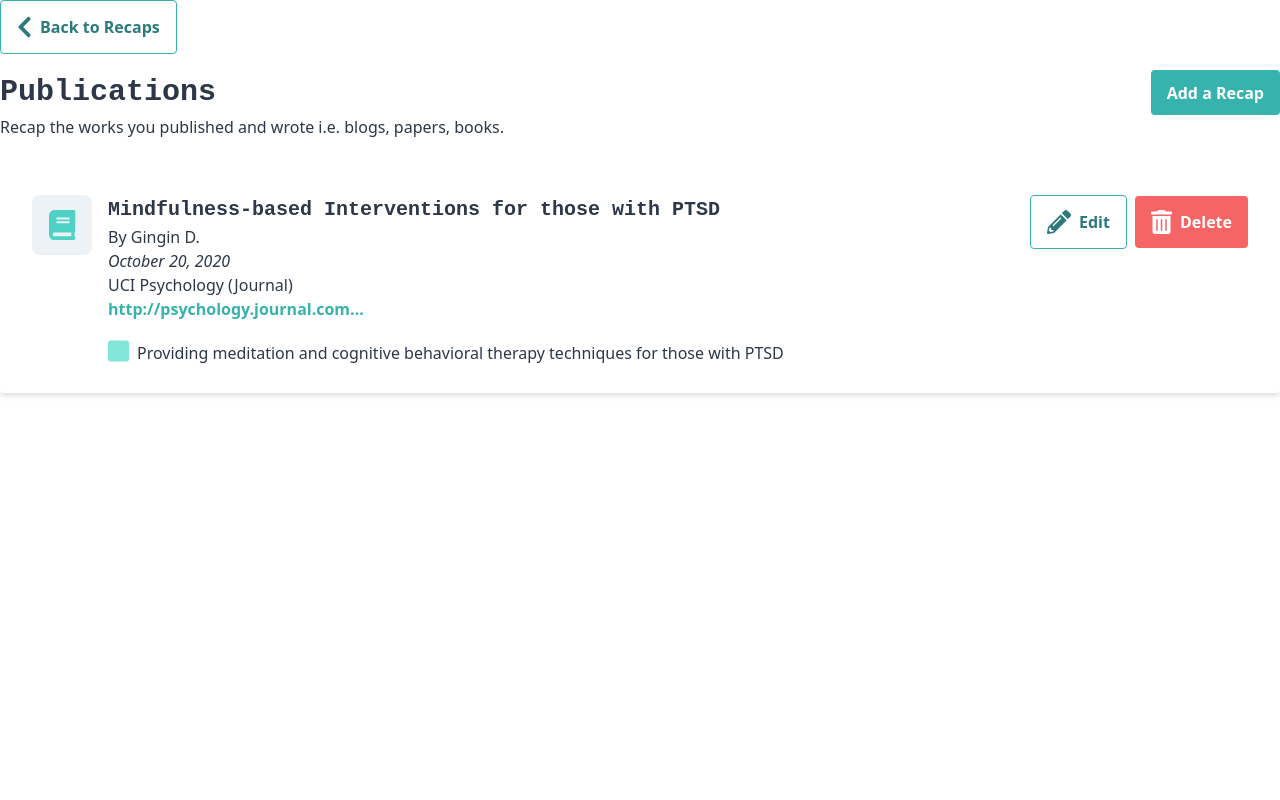
<PublicationsLayout /> › should show the error alert after failing to delete a recap
Click the button "Delete": {"x": 1192, "y": 222} top-left (1135, 196), bottom-right (1248, 248)
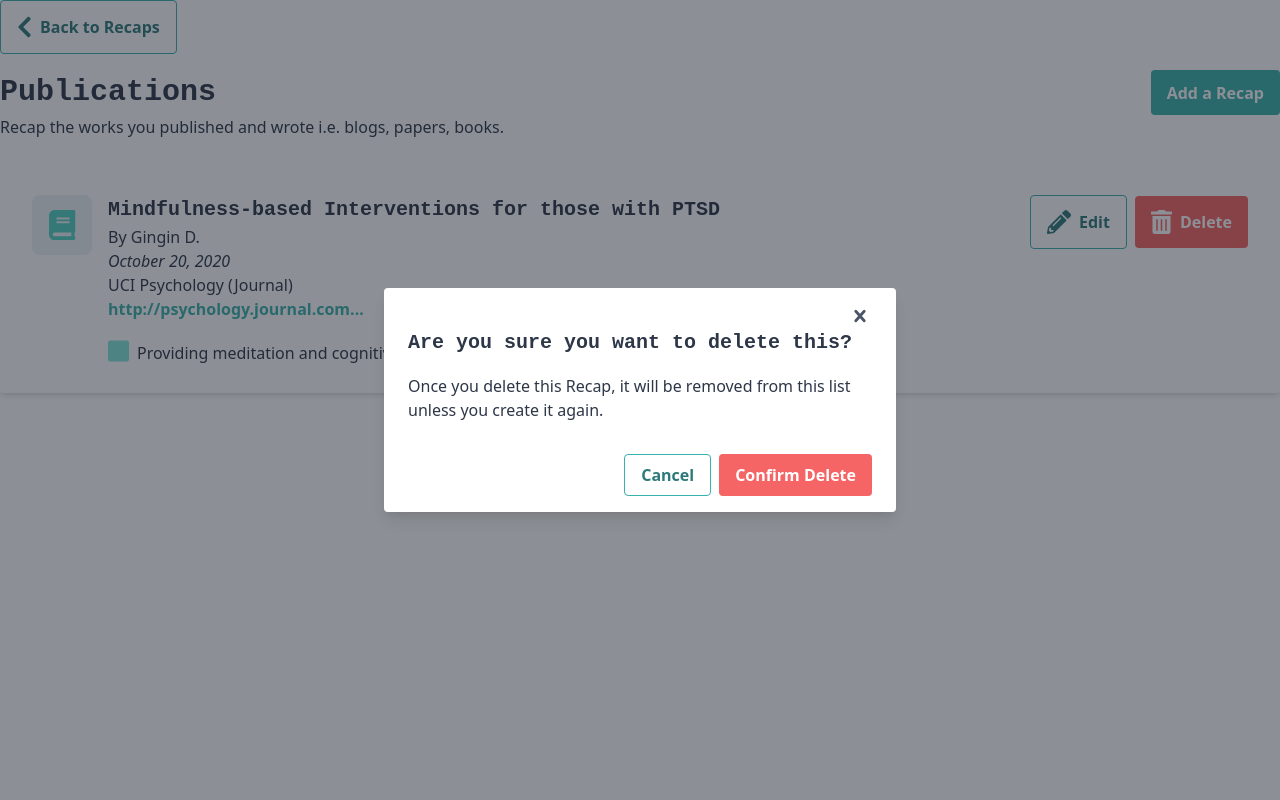
Check: the heading "Are you sure you want to delete this?" is shown, box top-left (408, 328), bottom-right (872, 358)
Click the button "Confirm Delete": {"x": 796, "y": 475} top-left (719, 454), bottom-right (872, 496)
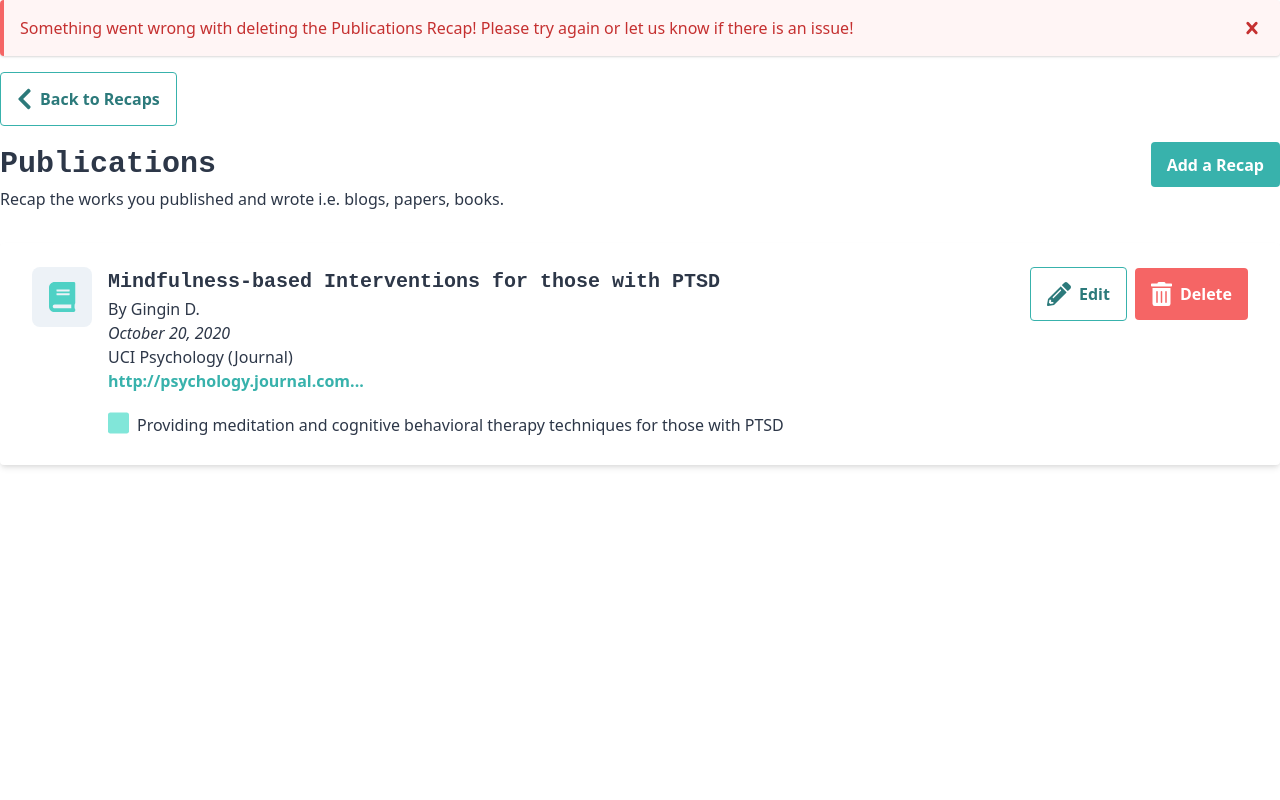
Check: the heading "Are you sure you want to delete this?" is gone
Check: the text "Something went wrong with deleting the Publications Recap!" is shown, box top-left (20, 17), bottom-right (854, 39)
